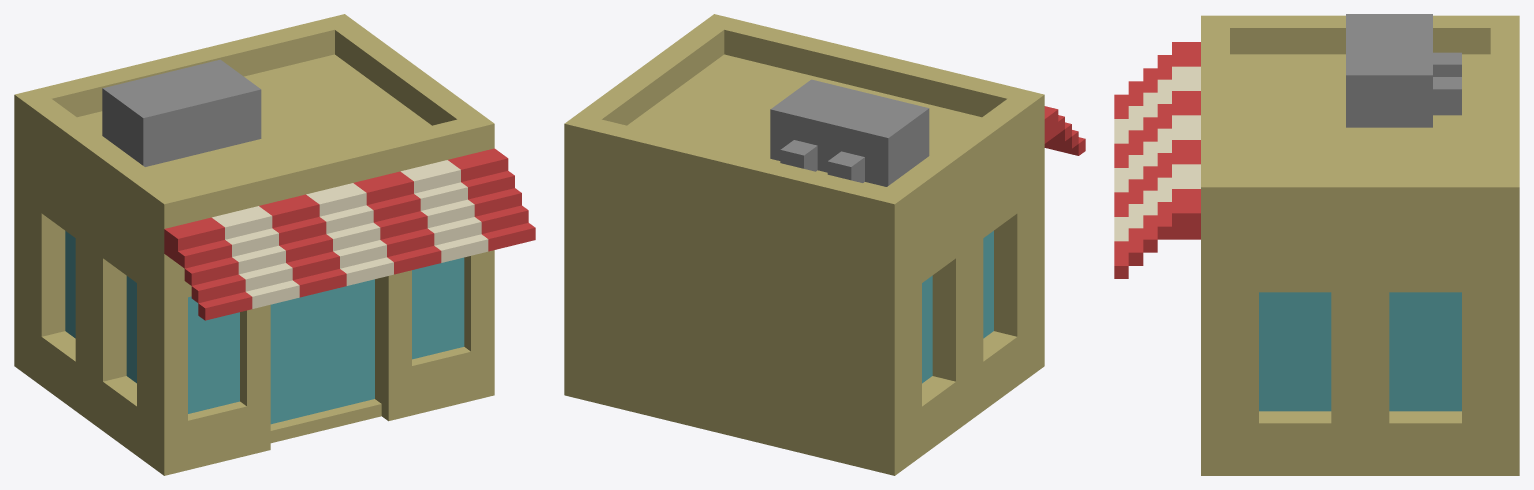
File: Building11.fbx
3 renders of one model, left to right at view 1: azimuth 30°, elevation 25°; view 2: azimuth 150°, elevation 25°; view 3: azimuth 270°, elevation 25°, orthographic. The views are drawn at different scales.
Visible parts, largest first — view 1: ObjObject.014; view 2: ObjObject.014; view 3: ObjObject.014.
Boxes of the visible parts, <box> form: ObjObject.014: <box>14,14,535,475</box>; ObjObject.014: <box>564,14,1085,475</box>; ObjObject.014: <box>1114,14,1519,475</box>.
Size of the model in its own units: 280 by 280 by 240.
Materials: 1 (1 with a texture image).
